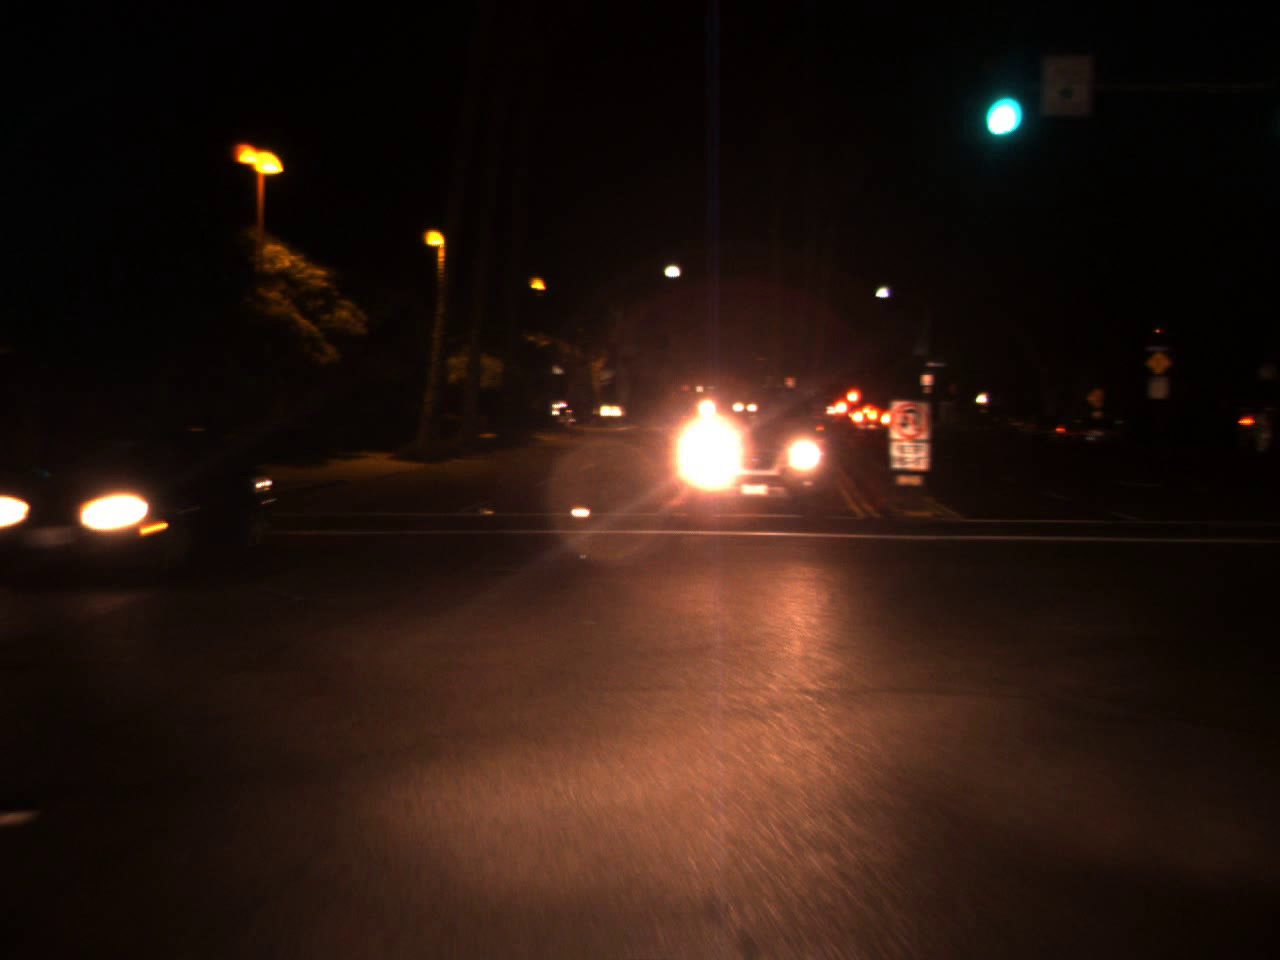go: (978, 61, 1019, 148)
